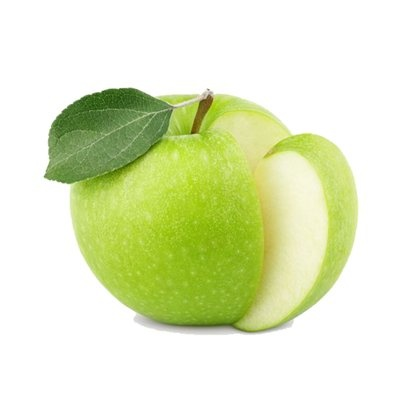apple: (69, 78, 357, 328)
